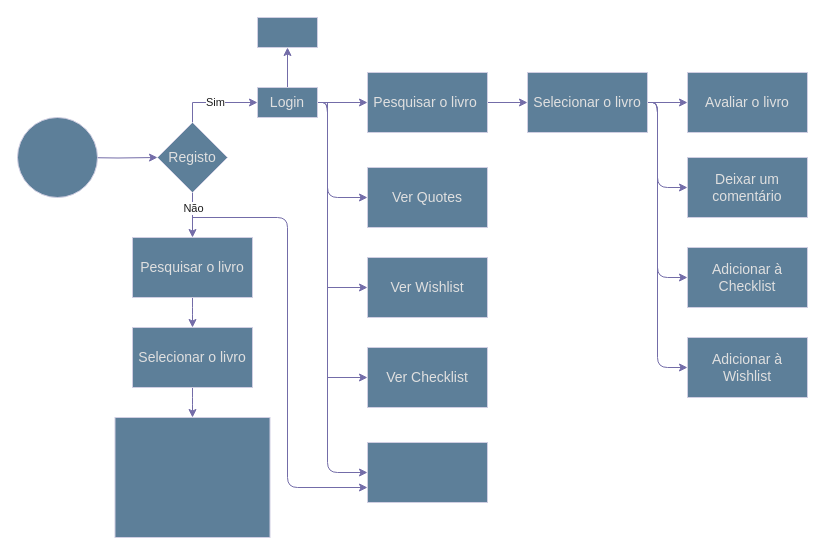
The diagram is 825 pixels wide and 559 high, and some of its shapes have lost their labels. Here are the shapes that lost their labels. From the top down, the box of each, then its label:
(256, 16, 318, 48): Logout
(16, 116, 98, 198): Início
(114, 416, 270, 538): Acesso às informações do livro pretendido: Autor; Data; Género; Avaliação;
(366, 442, 488, 502): Ver o Top10 - Melhor Avaliação
